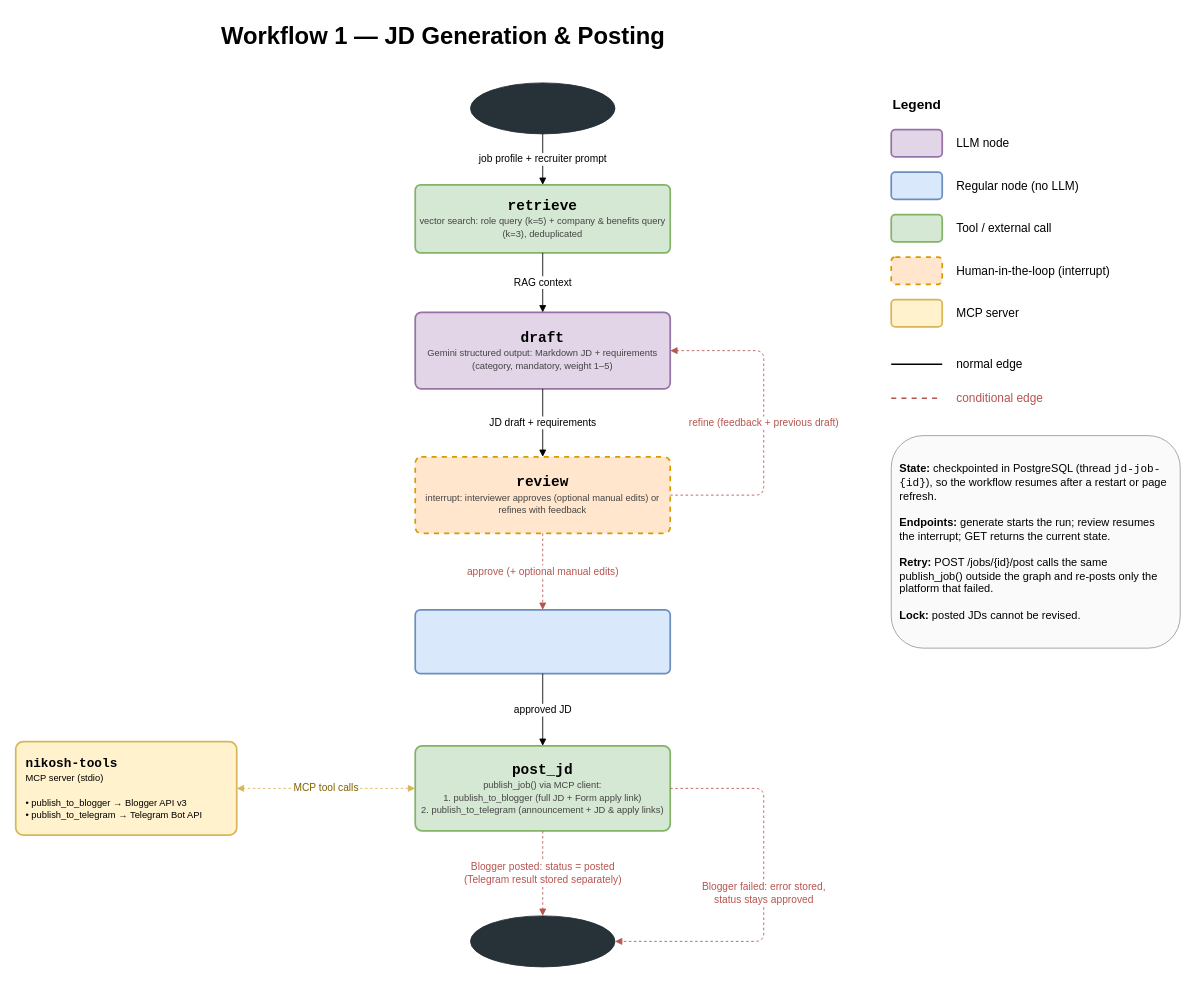
The diagram is 1195 pixels wide and 982 high, and some of its shapes have lost their labels. Here are the shapes that lost their labels. From the top down, the centre of each, then its label:
At [542,108]: "START".
At [542,641]: "save write JD + requirements to job, status = approved".
At [542,941]: "END".
